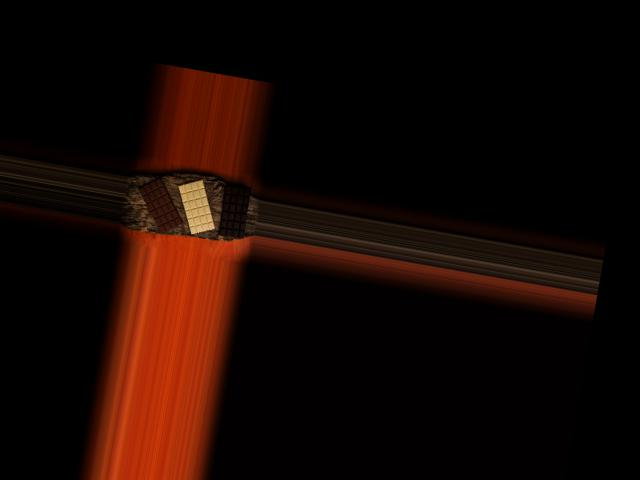chocolate: (217, 183, 253, 239)
